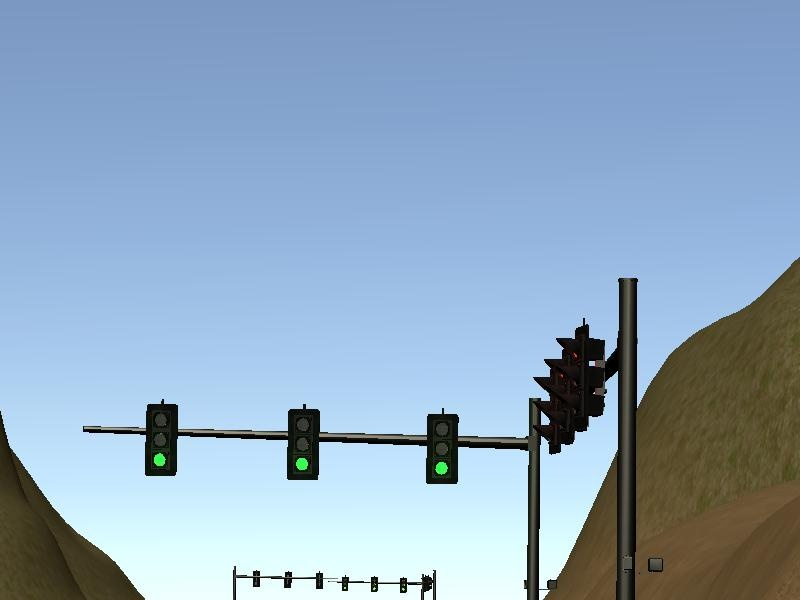GREEN: (140, 402, 182, 477), (425, 411, 461, 485), (285, 409, 321, 478)
